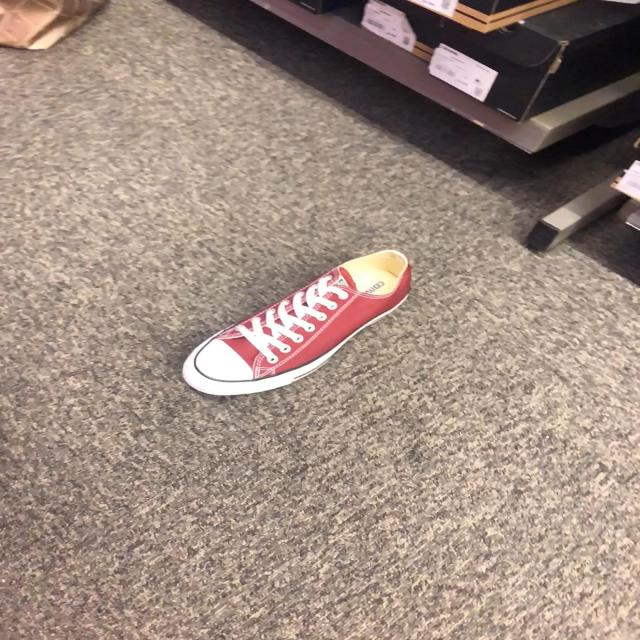shoe: (180, 250, 413, 399)
